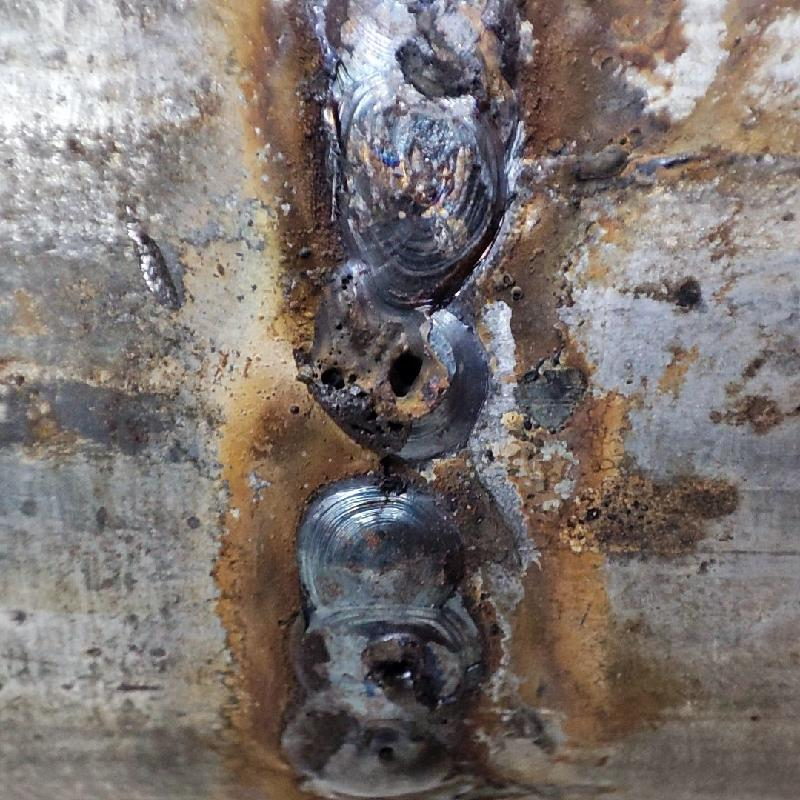Surface_pores: (311, 302, 451, 429), (352, 633, 432, 700), (363, 736, 413, 776)
wrong_size: (276, 2, 509, 797)
